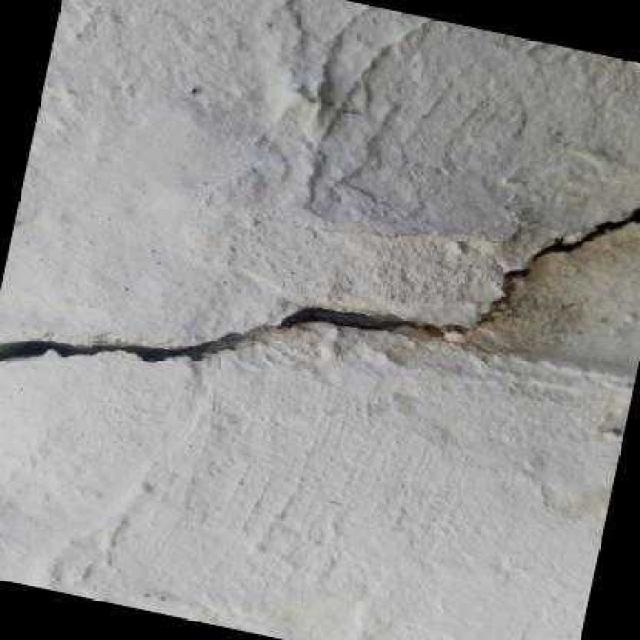D00: (0, 203, 640, 363)
